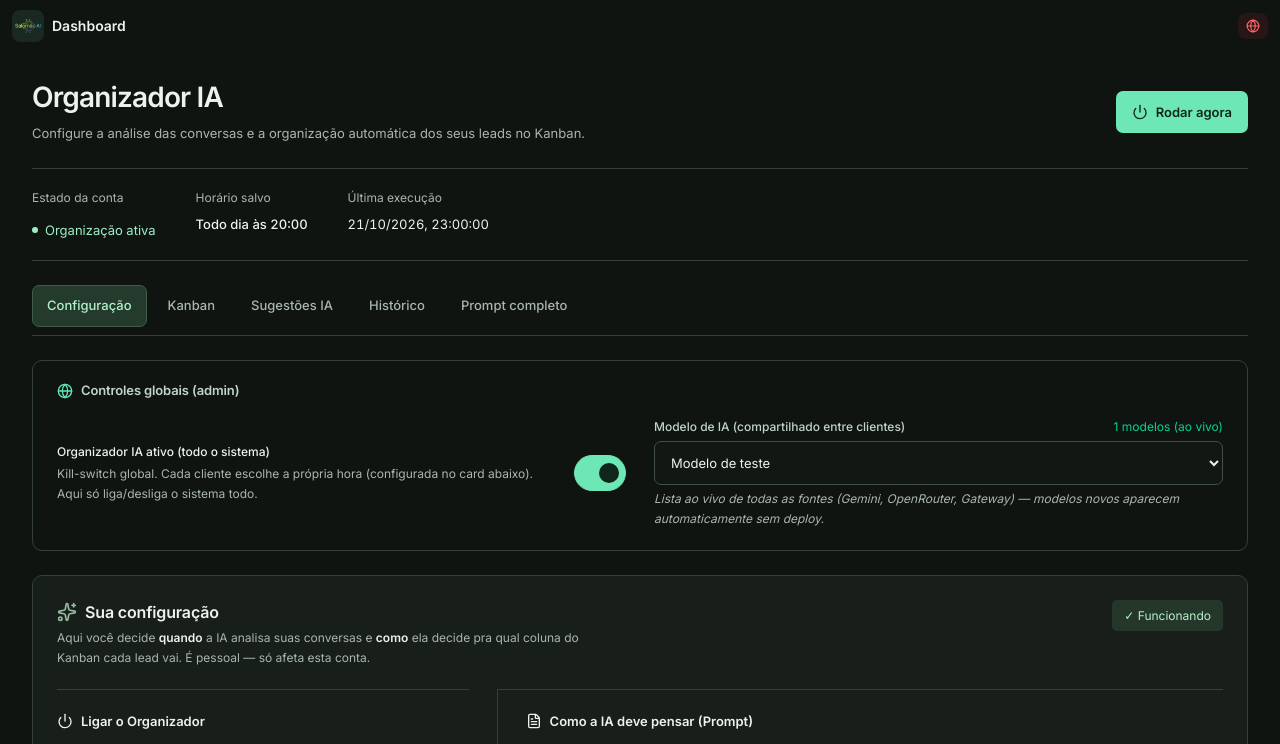
Test: Organizador IA: contratos da interface › só gera sugestões por ação explícita, permite revisar e não aplica automaticamente
This screenshot has width=1280, height=744.
Expected: the button "Rodar agora" is enabled, [1116,91,1248,133]
Click the button "Sugestões IA" at (292, 306), box [236,285,348,327]
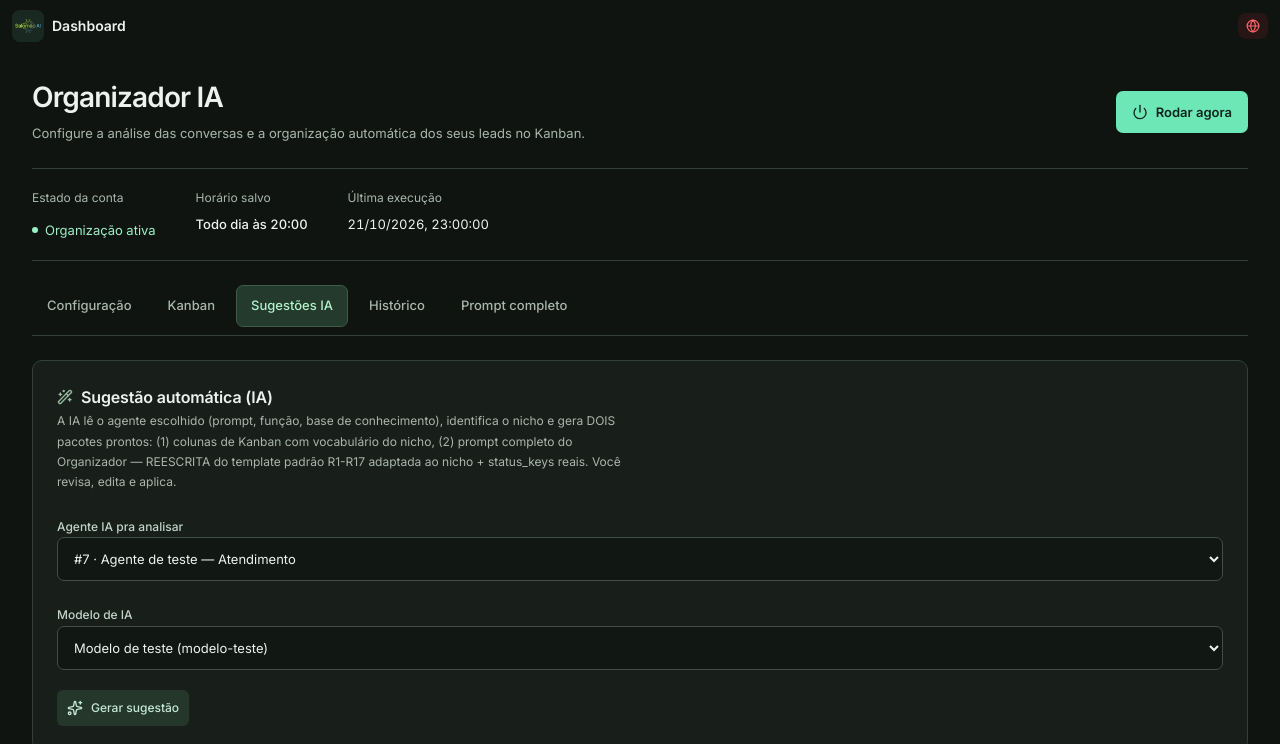
Click the button "Gerar sugestão" at (123, 708), box [57,690,189,726]
(page scrolled)
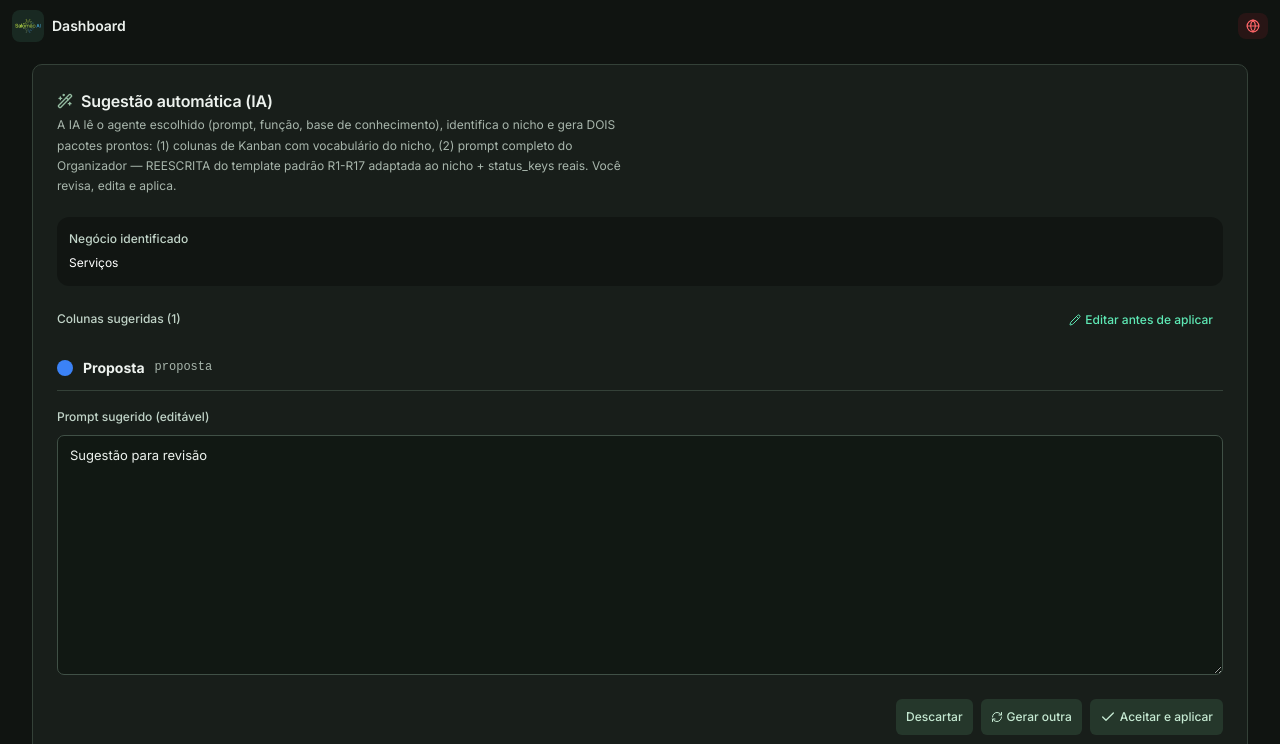
Expected: the text "Serviços" is shown, [69,255,118,270]
Expected: the text box named "Prompt sugerido" holds "Sugestão para revisão", [57,435,1223,675]
